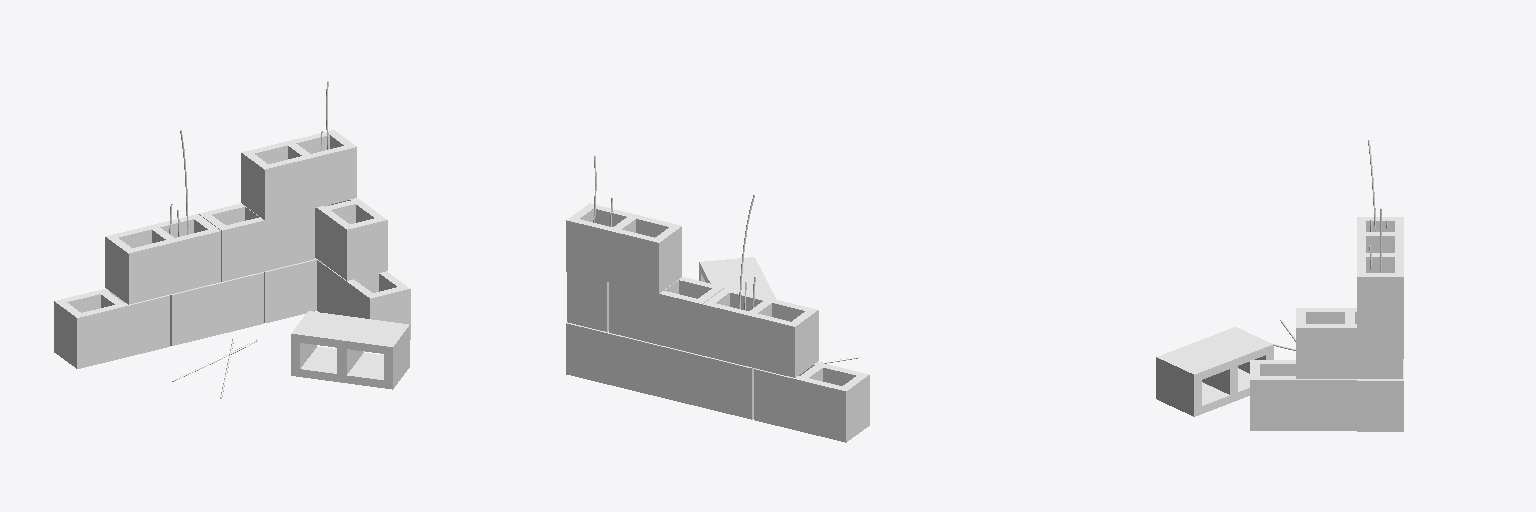
The model's file is Bloques_Concreto.obj.
3 renders of one model, left to right at view 1: azimuth 30°, elevation 25°; view 2: azimuth 150°, elevation 25°; view 3: azimuth 270°, elevation 25°, orthographic.
Size of the model in its own units: 32.91 by 24.13 by 25.15.